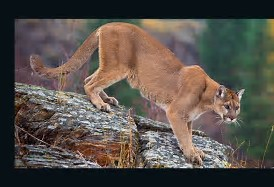Mountain Lion: (71, 19, 247, 161)
